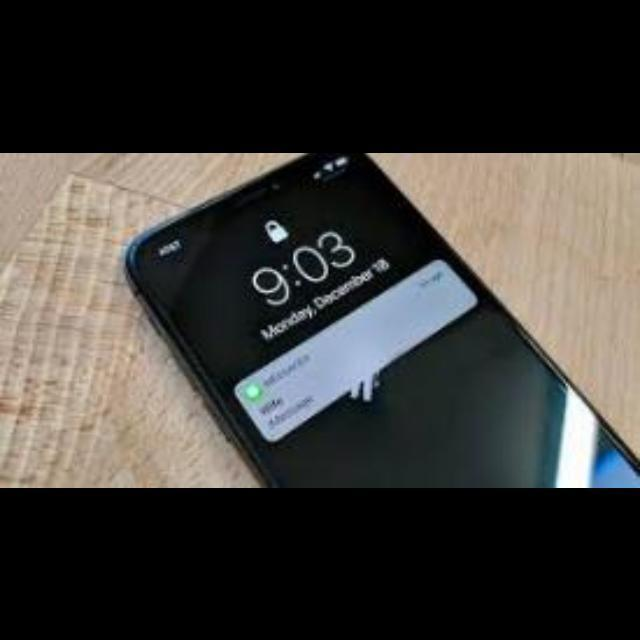PhoneUse: (107, 154, 637, 486)
